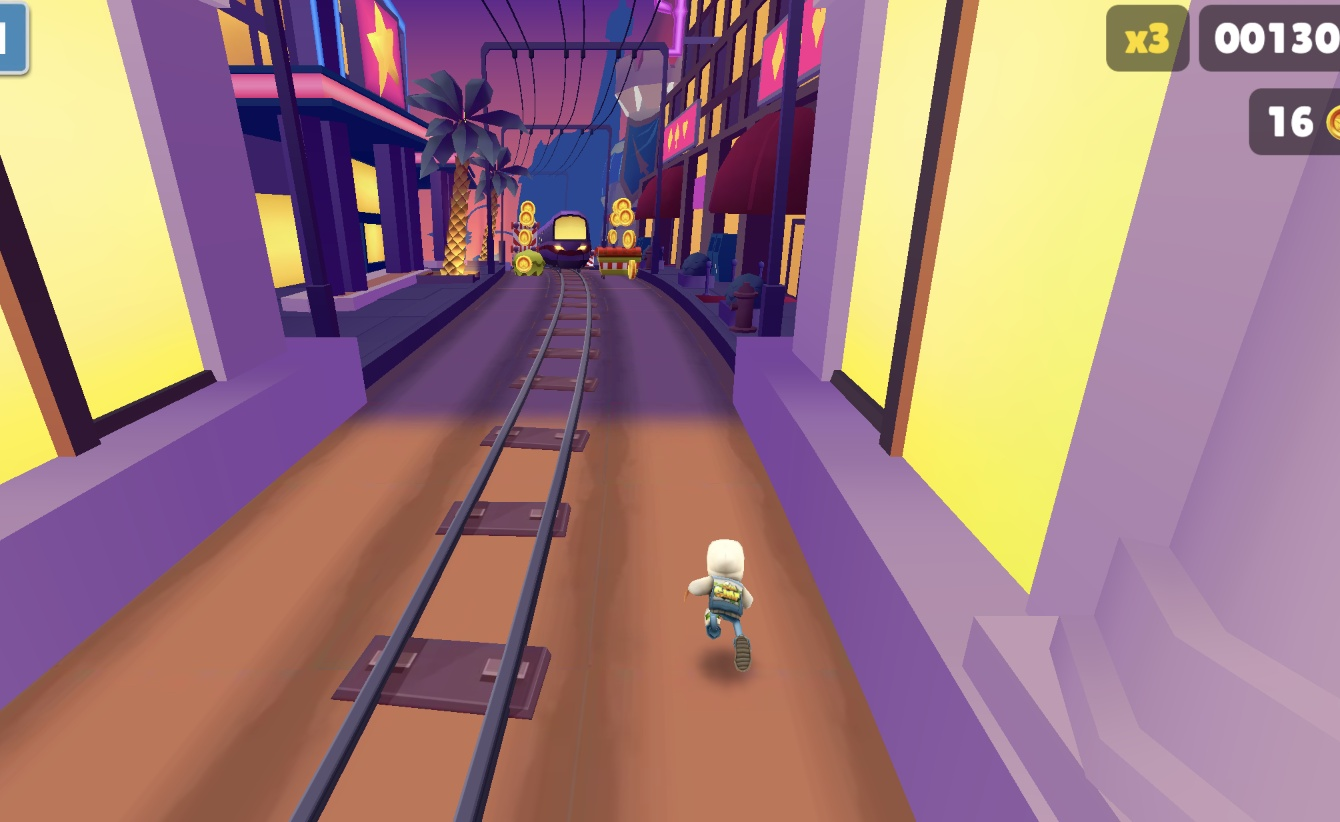bush: (509, 250, 545, 276)
ground_barrier: (596, 247, 641, 276), (584, 251, 598, 271)
overhead_barrier: (518, 219, 541, 252)
train: (537, 210, 591, 270)
